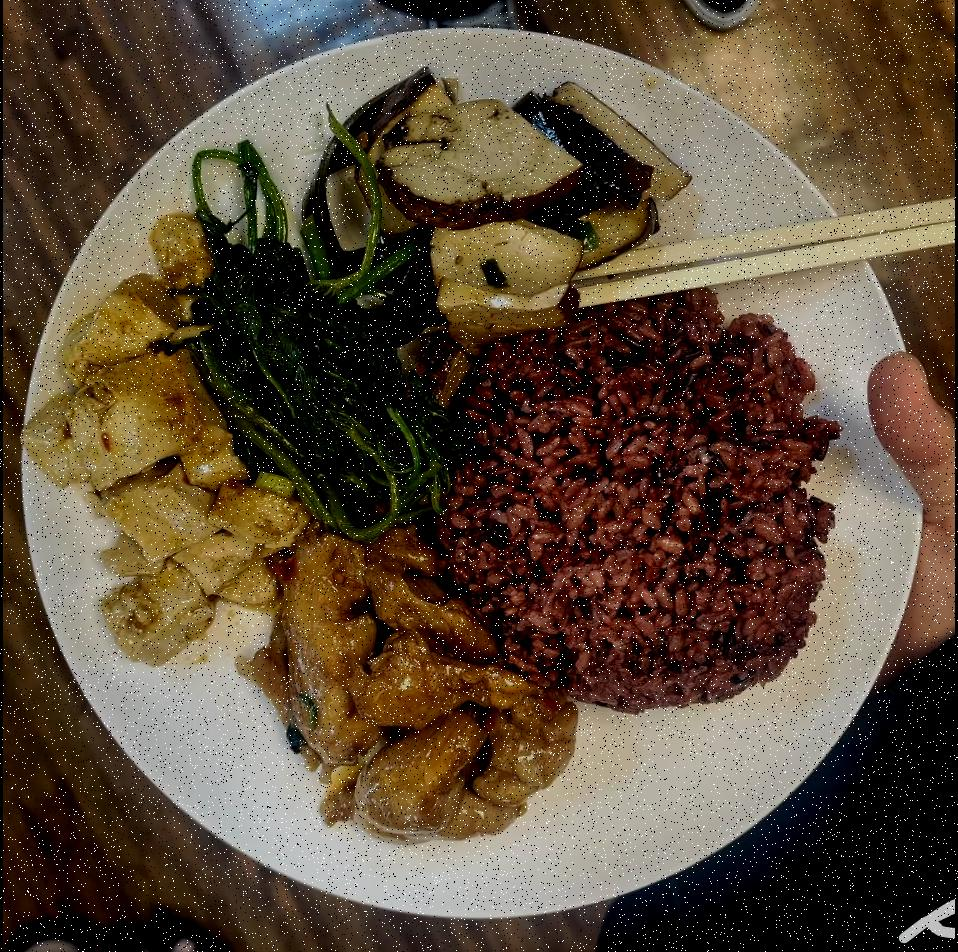plate: (34, 25, 928, 926)
purple rice: (451, 298, 828, 714)
side dish: (24, 231, 284, 673), (196, 148, 454, 536), (320, 74, 672, 346)
three cup chicken: (259, 543, 569, 846)
